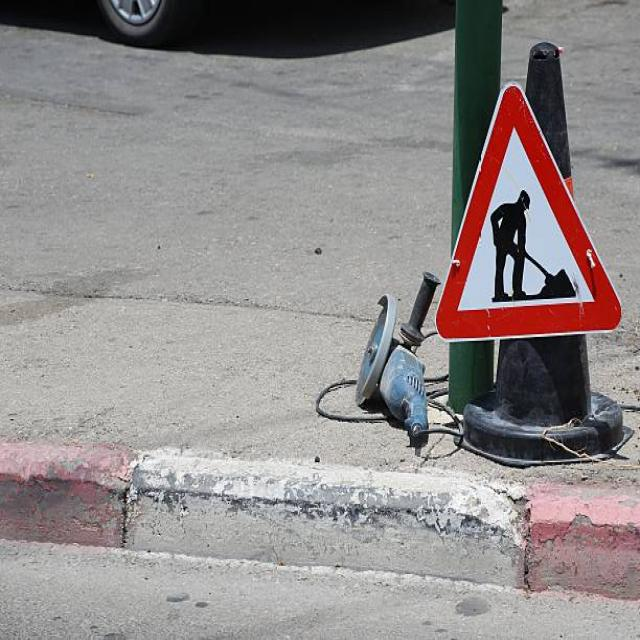road_work: (433, 87, 624, 340)
